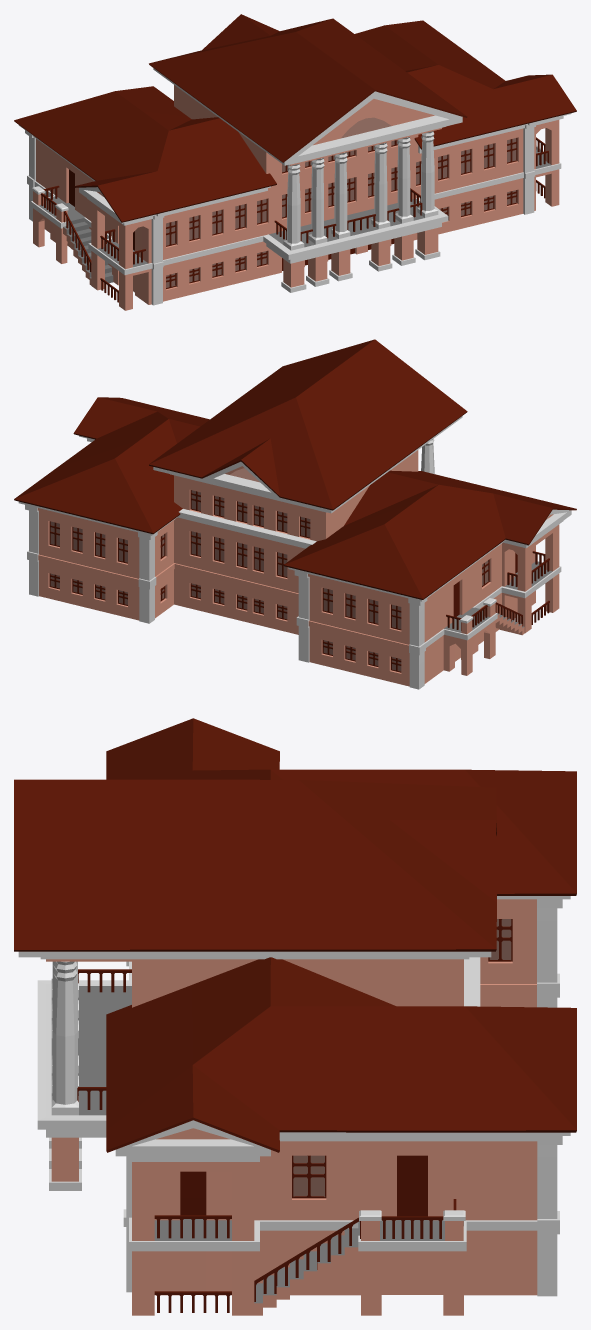
Rendered from 3dvuhetaj.glb.
The picture shows the model from 3 angles, top to bottom: view 1: azimuth 30°, elevation 25°; view 2: azimuth 150°, elevation 25°; view 3: azimuth 270°, elevation 25°; orthographic projection. The views are drawn at different scales.
Parts seen in each view (by area): view 1: Плоскость; view 2: Плоскость; view 3: Плоскость.
Boxes of the visible parts, bbox=[...] form: Плоскость: bbox=[14, 14, 576, 310]; Плоскость: bbox=[14, 339, 576, 689]; Плоскость: bbox=[14, 718, 576, 1315].
Bounding box in the file's own units: 3.47 × 1.4 × 2.07.
